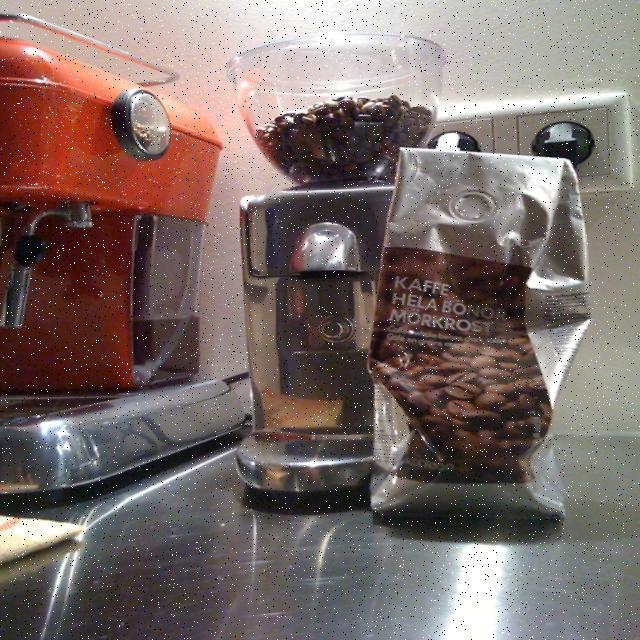Coffee-Machine: (0, 0, 231, 500), (226, 1, 448, 516)
